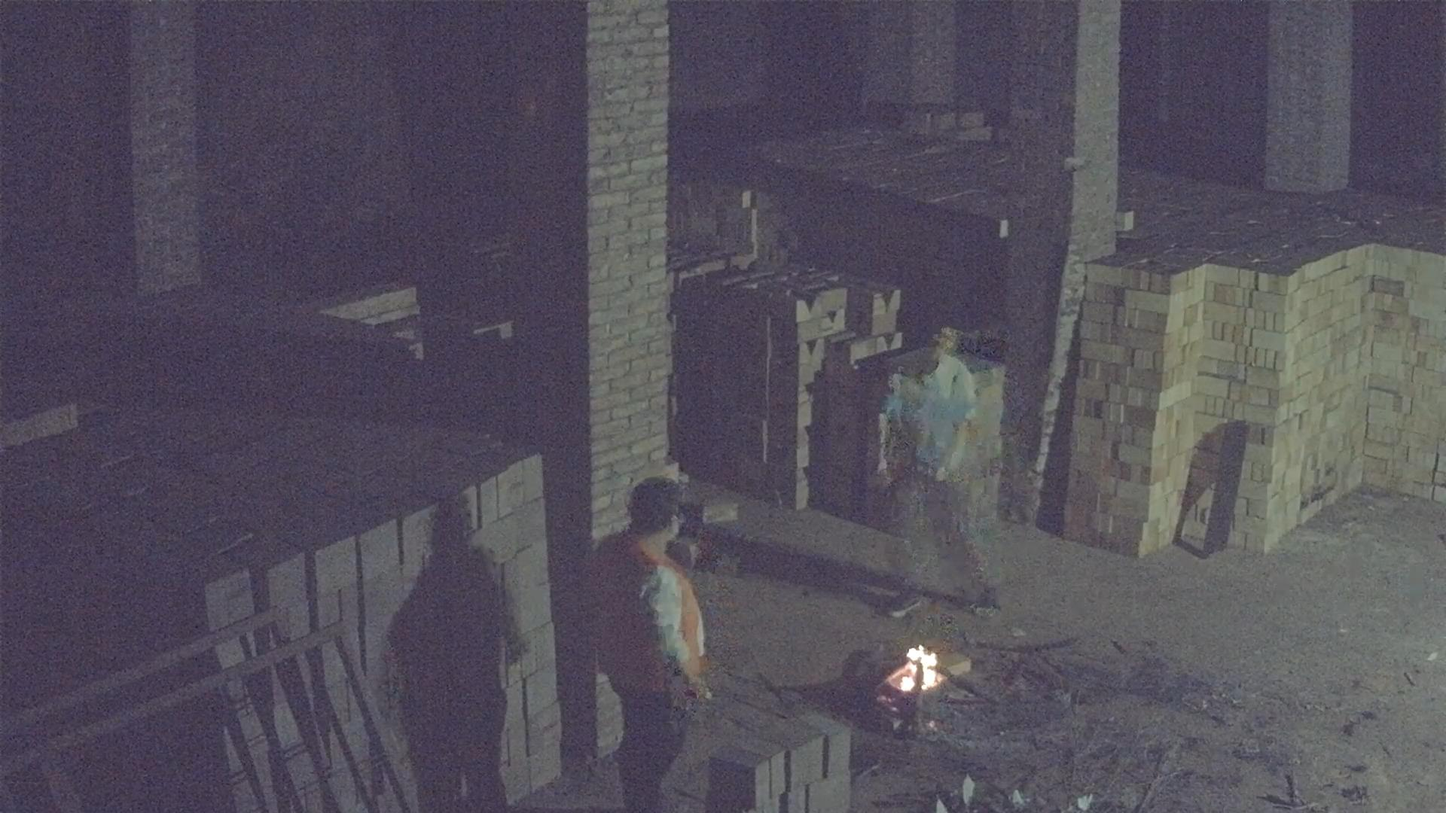fire: (887, 646, 943, 693)
